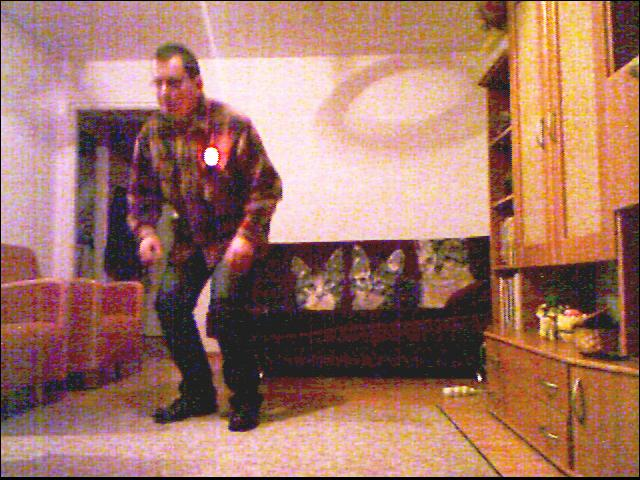sitting: (100, 34, 305, 428)
